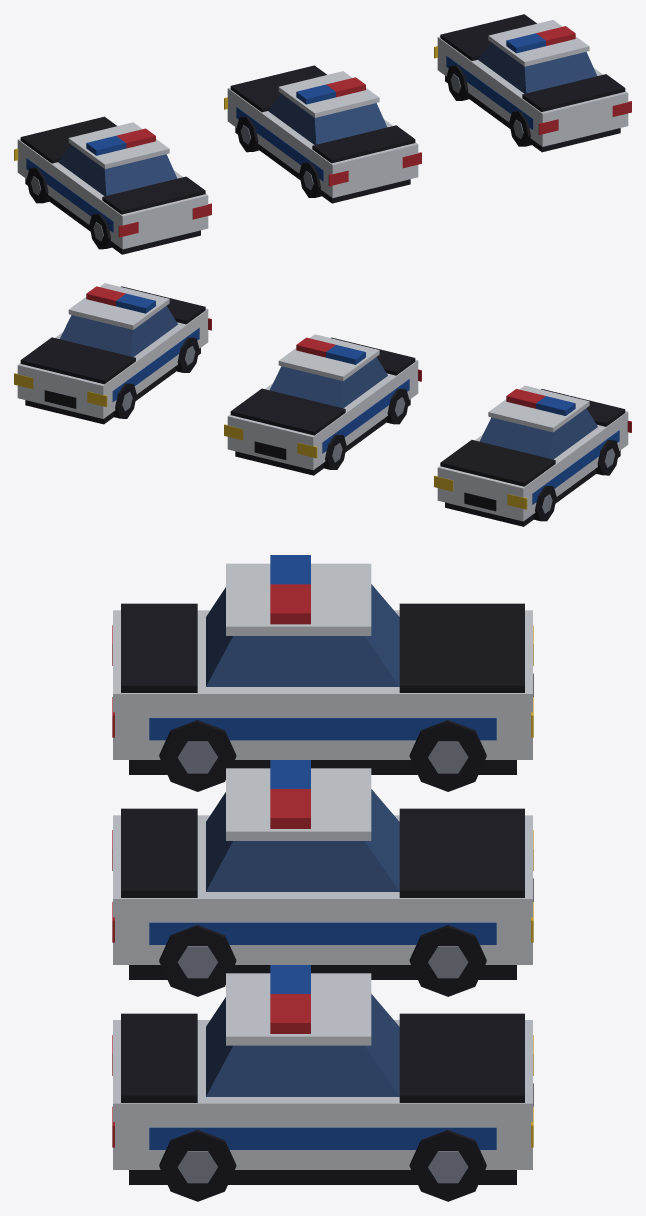
Rendered from Decor_PoliceStation_Cars.fbx.
3 renders of one model, top to bottom at view 1: azimuth 30°, elevation 25°; view 2: azimuth 150°, elevation 25°; view 3: azimuth 270°, elevation 25°, orthographic. The views are drawn at different scales.
Parts seen in each view (by area): view 1: Cars_Body; view 2: Cars_Body; view 3: Cars_Body.
Part boxes in pixels (<box>): Cars_Body: <box>14,14,631,254</box>; Cars_Body: <box>14,283,631,526</box>; Cars_Body: <box>112,555,533,1201</box>.
Bounding box in the file's own units: 29.2 × 4.45 × 10.4.
